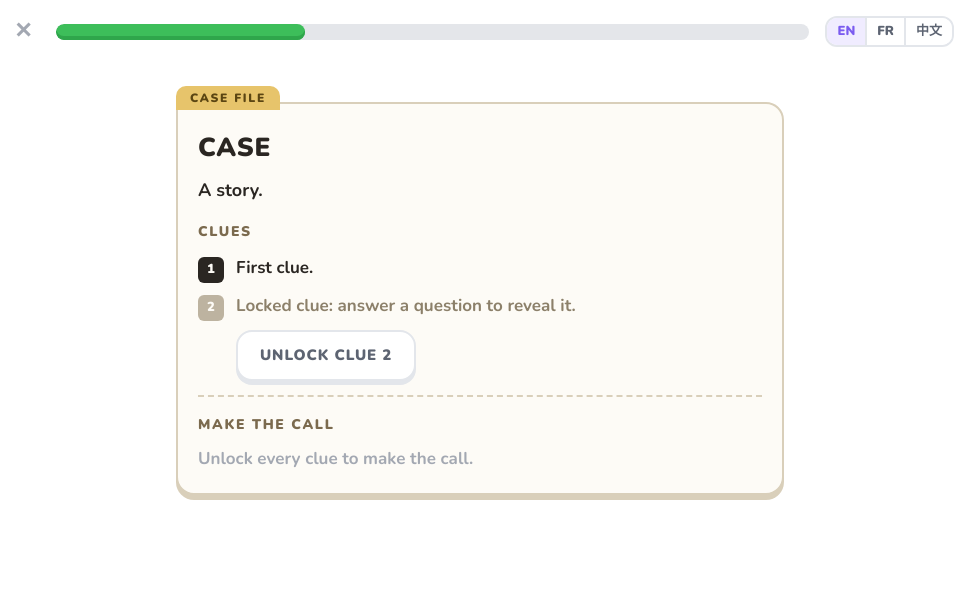
a case resumes with its unlocked clues
Later steps or results of the test are not shown.
Click the button "Unlock clue 2" at (326, 356), box [236, 330, 416, 381]
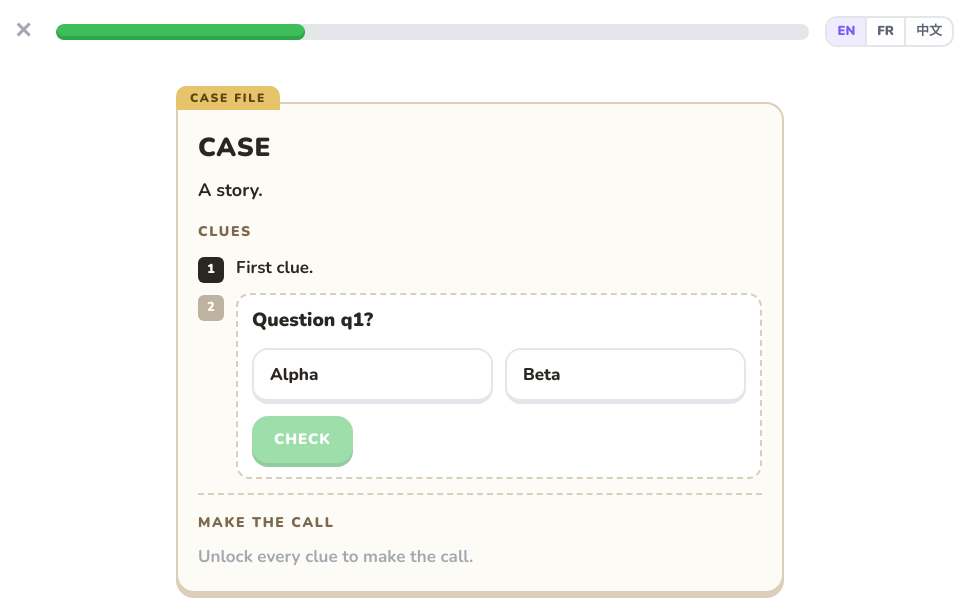
Click the button "Alpha" at (372, 376), box [252, 348, 493, 404]
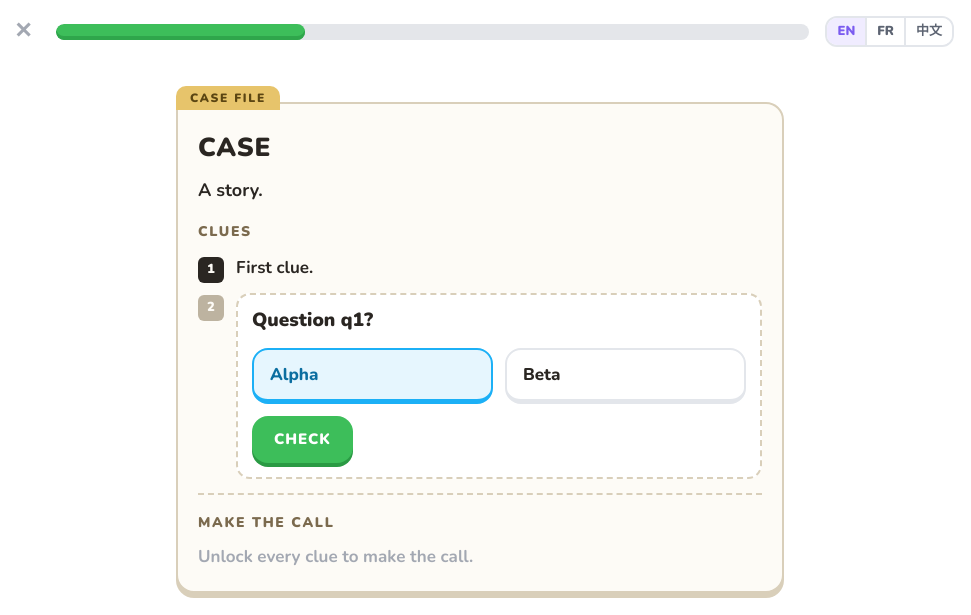
Click the button "Check" at (302, 440), box [252, 416, 353, 463]
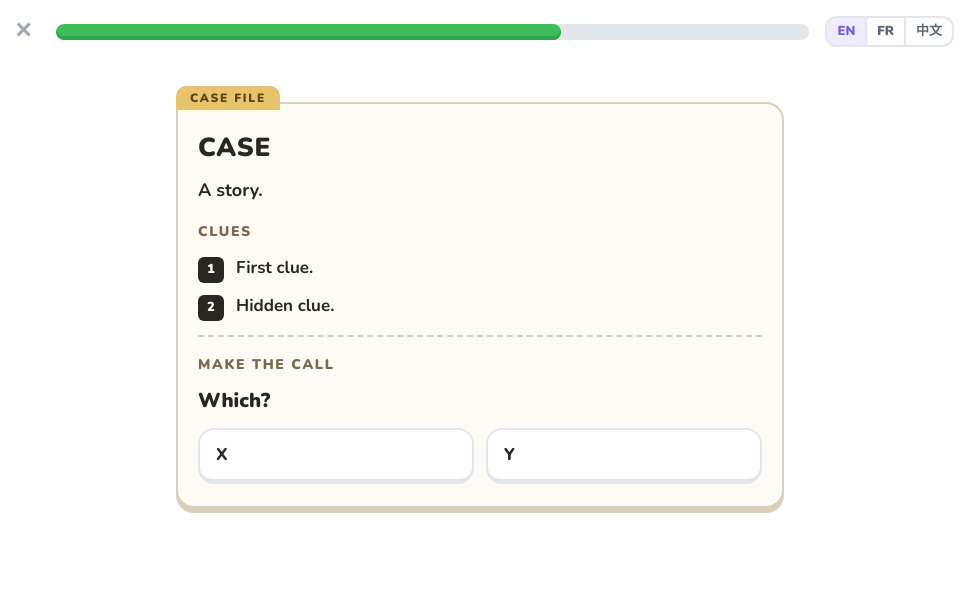
Result: the text "Hidden clue." is shown at [236, 294, 334, 317]
